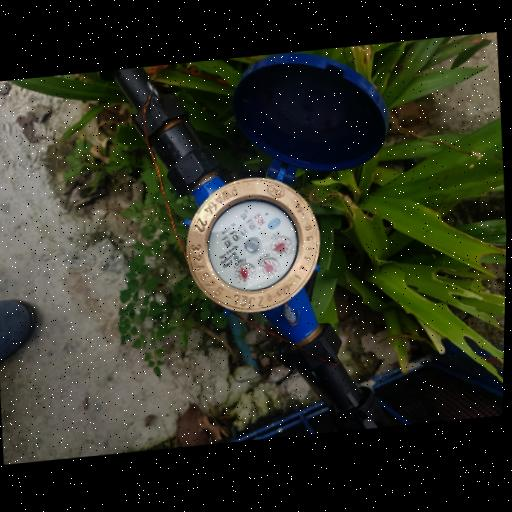0: (227, 228, 242, 244), (220, 234, 234, 249), (236, 223, 249, 237)
6: (245, 218, 258, 233)
9: (252, 212, 266, 229)
border_water_meter_number: (217, 209, 269, 251)
